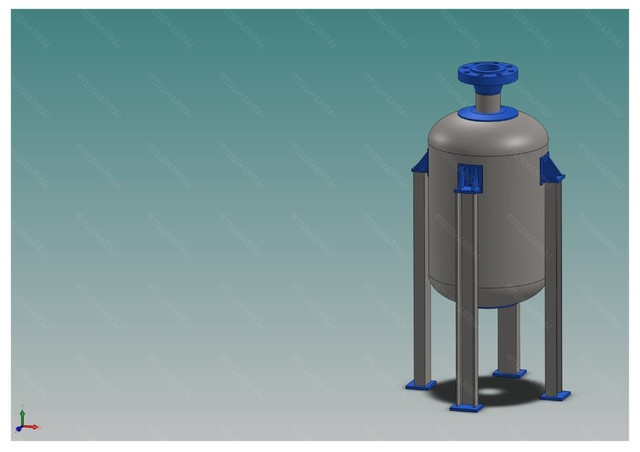nozzle: (439, 61, 541, 126)
